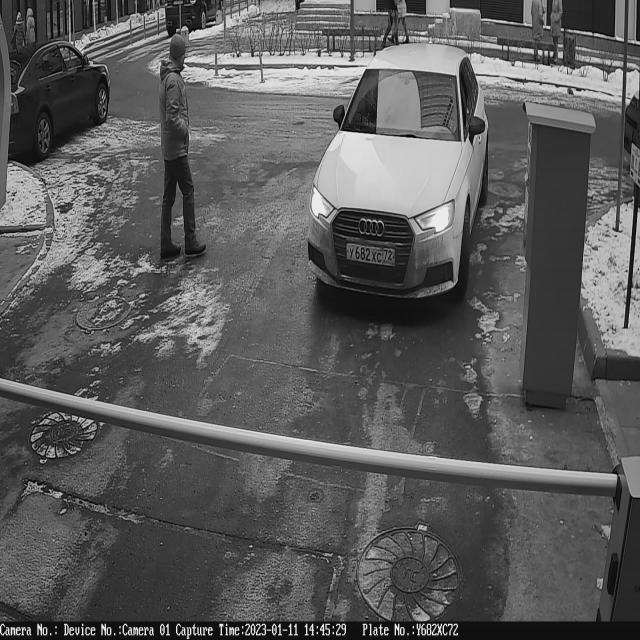car-plate-numbers: (343, 236, 401, 272)
